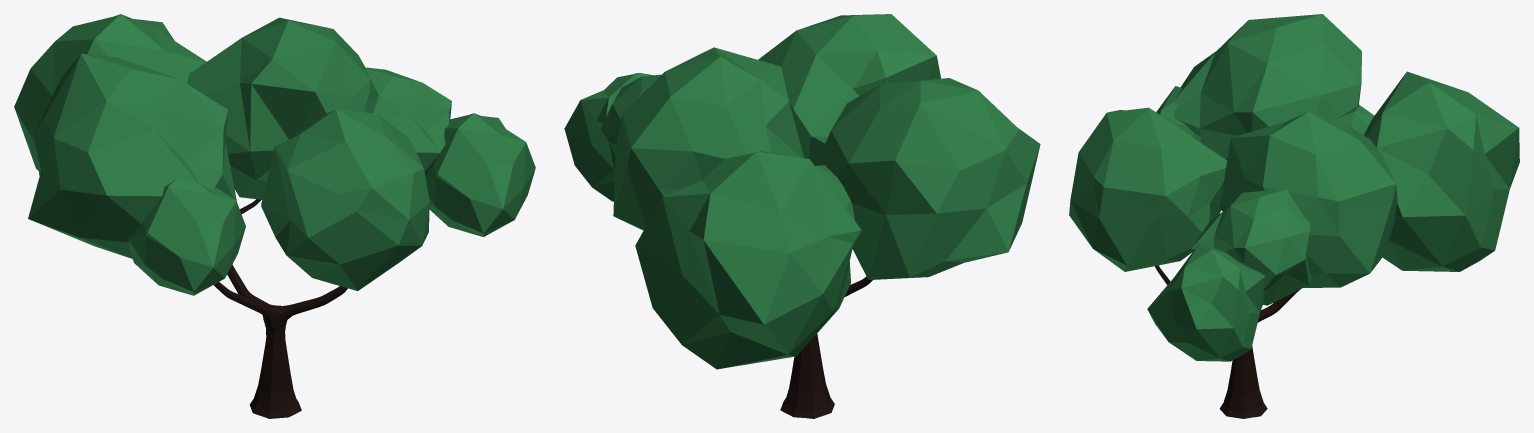
3 views of the same model, side by side, from view 1: azimuth 30°, elevation 25°; view 2: azimuth 150°, elevation 25°; view 3: azimuth 270°, elevation 25° (orthographic). The views are drawn at different scales.
Parts seen in each view (by area): view 1: Tree_01_0; view 2: Tree_01_0; view 3: Tree_01_0.
Boxes of the visible parts, x1,y1,x2,y2 form: Tree_01_0: (14, 14, 535, 418); Tree_01_0: (564, 14, 1040, 418); Tree_01_0: (1069, 14, 1519, 418).
Size of the model in its own units: 17.19 by 12.96 by 16.08.
1 material, 1 textured.
